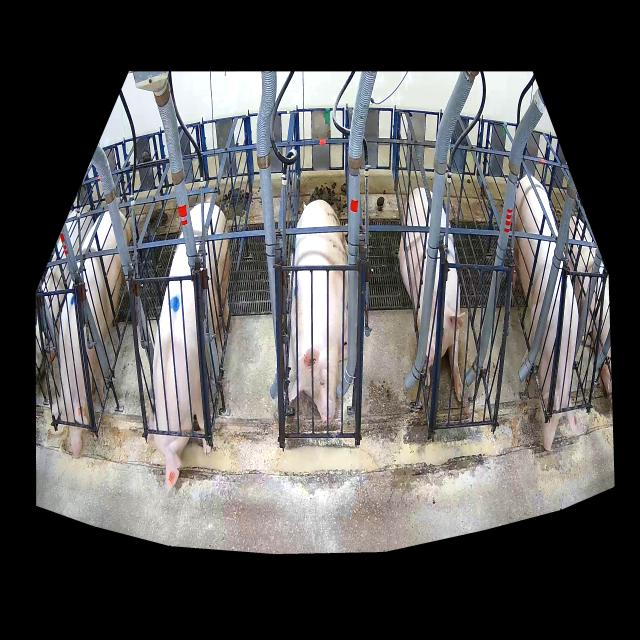pig: (147, 203, 230, 490), (52, 209, 131, 458), (511, 175, 580, 449), (399, 187, 465, 402), (288, 200, 348, 426)
